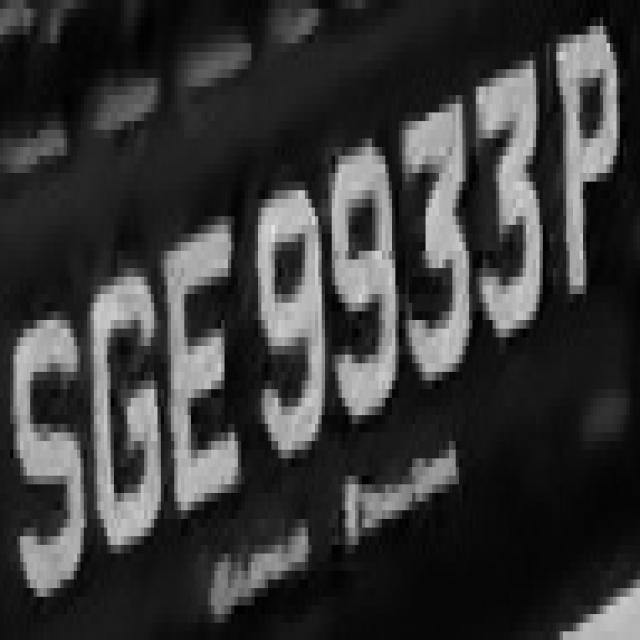3: (395, 61, 476, 407), (469, 43, 550, 363)
9: (322, 130, 408, 450), (248, 173, 332, 484)
E: (157, 208, 238, 536)
G: (84, 251, 161, 553)
P: (556, 9, 630, 337)
S: (10, 286, 94, 606)
